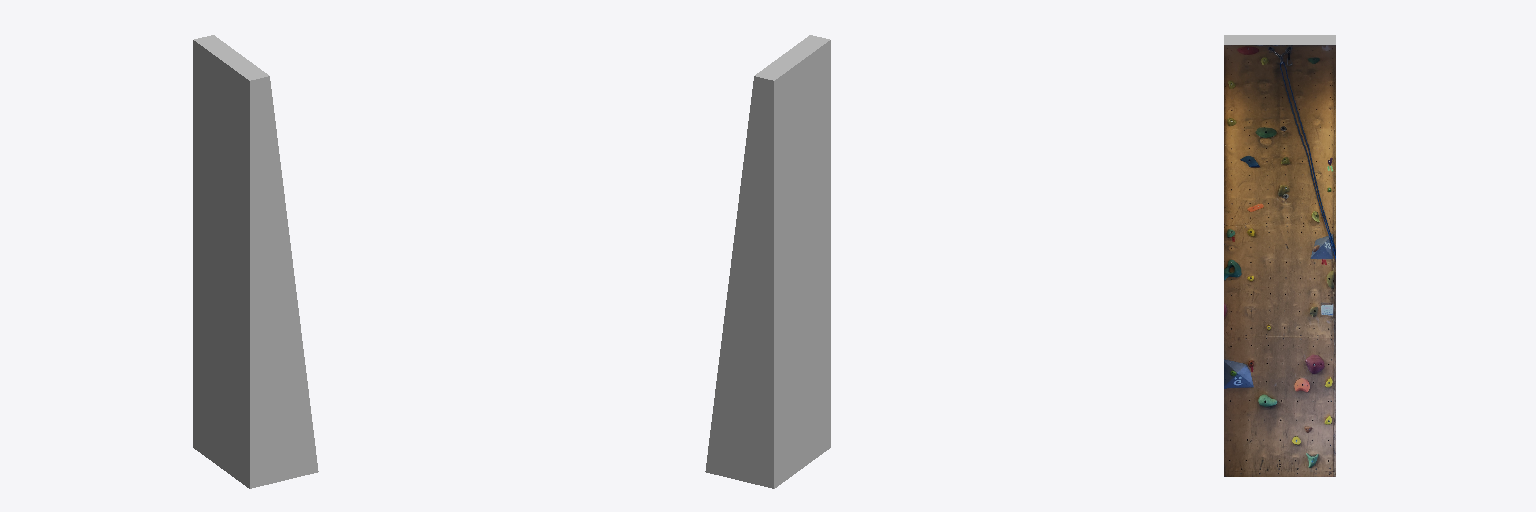
3 renders of one model, left to right at view 1: azimuth 30°, elevation 25°; view 2: azimuth 150°, elevation 25°; view 3: azimuth 270°, elevation 25°, orthographic.
Parts seen in each view (by area): view 1: Cube; view 2: Cube; view 3: Cube.
Boxes of the visible parts, <box> form: Cube: <box>193,35,318,488</box>; Cube: <box>705,35,830,488</box>; Cube: <box>1224,35,1335,476</box>.
Bounding box in the file's own units: 0.85 × 4.8 × 1.2.
Materials: 2 (1 with a texture image).